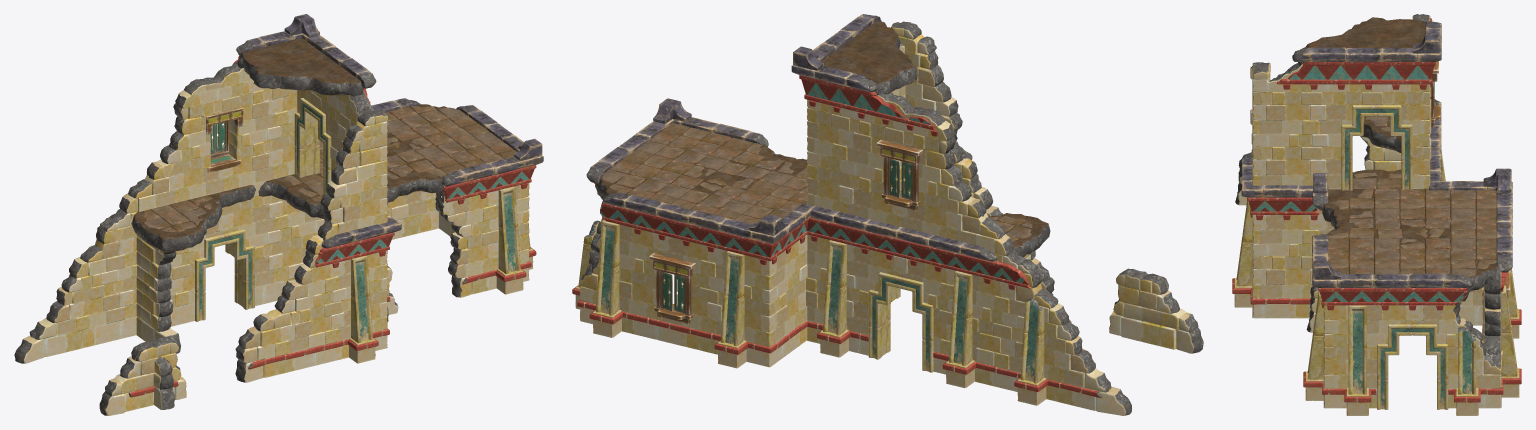
3 views of the same model, side by side, from view 1: azimuth 30°, elevation 25°; view 2: azimuth 150°, elevation 25°; view 3: azimuth 270°, elevation 25° (orthographic). The views are drawn at different scales.
Visible parts, largest first — view 1: SM_Menaphite_Ruins_06_LOD0; view 2: SM_Menaphite_Ruins_06_LOD0; view 3: SM_Menaphite_Ruins_06_LOD0.
Boxes of the visible parts, box(x1,y1,x2,y2) form: SM_Menaphite_Ruins_06_LOD0: box(14, 14, 543, 415); SM_Menaphite_Ruins_06_LOD0: box(572, 14, 1203, 415); SM_Menaphite_Ruins_06_LOD0: box(1232, 14, 1521, 415).
Size of the model in its own units: 33.16 by 17.47 by 16.27.
10 materials, 10 textured.
